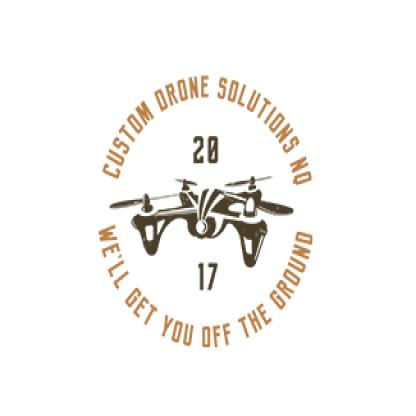drone: (113, 174, 303, 272)
